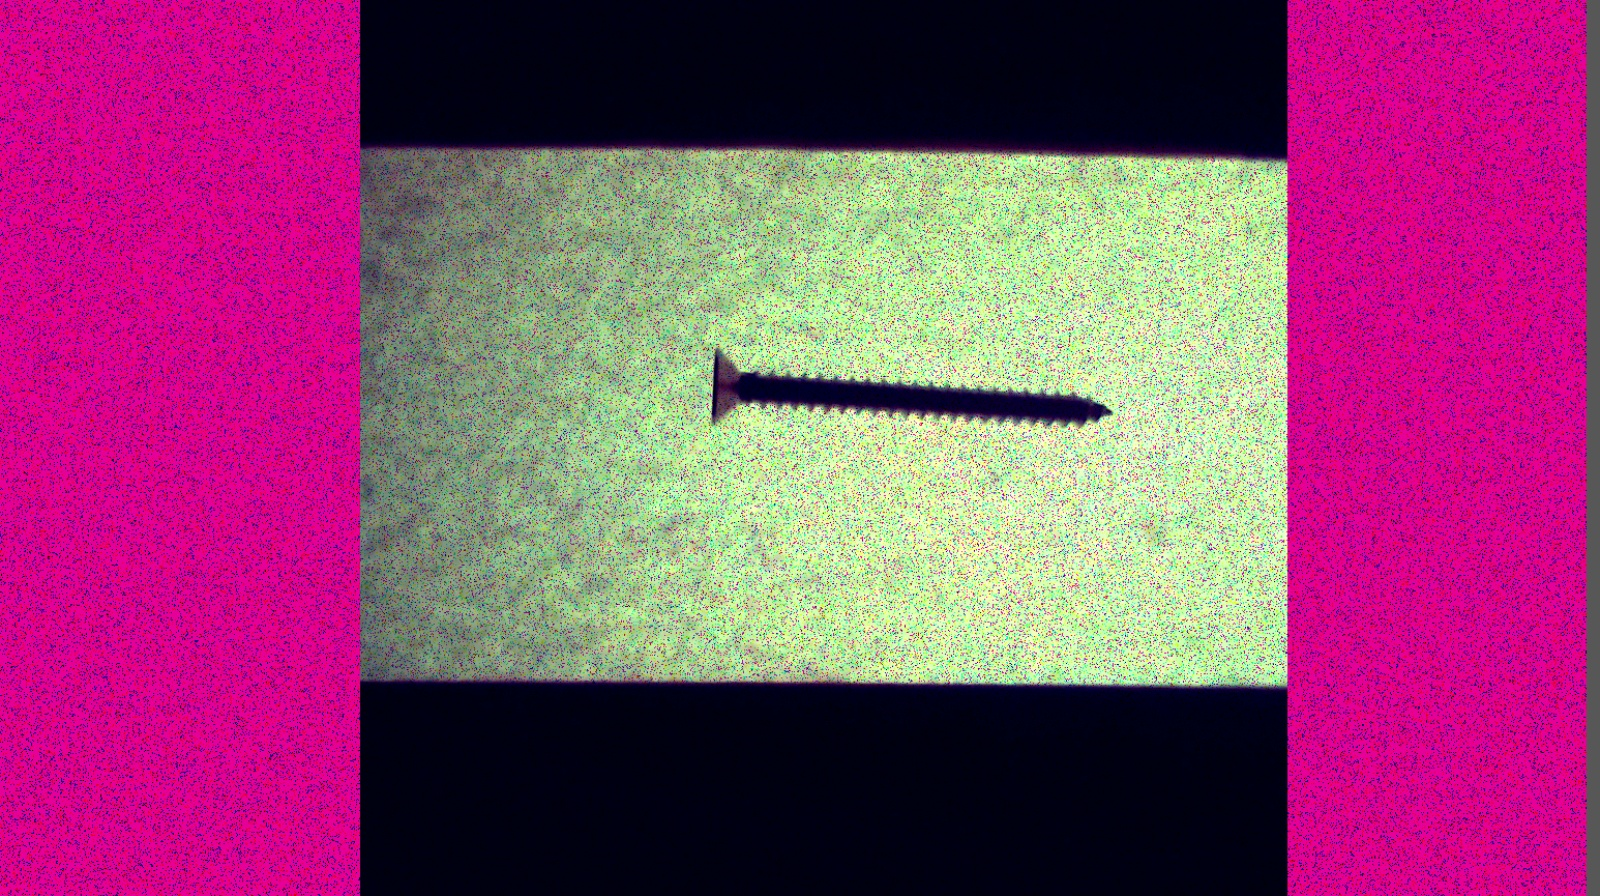S002: (690, 310, 1111, 473)
